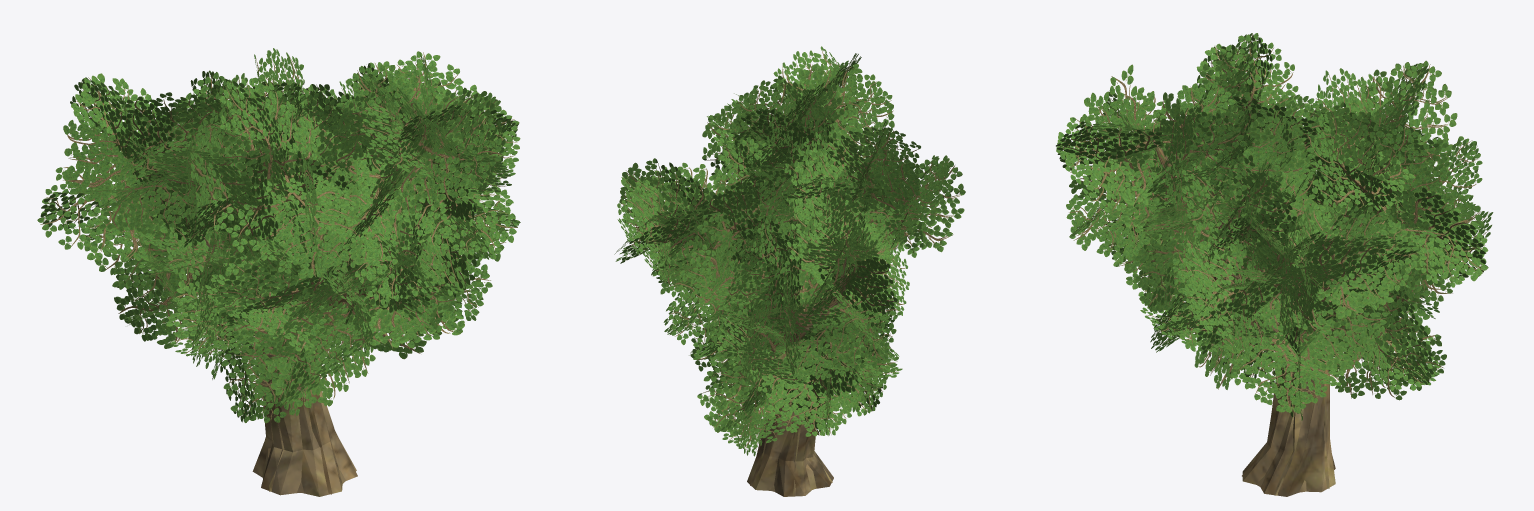
The model's file is arbre.obj.
The picture shows the model from 3 angles, left to right: view 1: azimuth 30°, elevation 25°; view 2: azimuth 150°, elevation 25°; view 3: azimuth 270°, elevation 25°; orthographic projection. The views are drawn at different scales.
Visible parts, largest first — view 1: Plane_Plane.003, Plane.044_Plane; view 2: Plane.044_Plane, Plane_Plane.003; view 3: Plane.044_Plane, Plane_Plane.003.
Part boxes in pixels (x1,y1,x2,y2): Plane_Plane.003: (37,50,520,494); Plane.044_Plane: (38,48,520,496); Plane.044_Plane: (614,50,964,496); Plane_Plane.003: (615,46,965,496); Plane.044_Plane: (1056,34,1488,496); Plane_Plane.003: (1056,33,1493,495).
Bounding box in the file's own units: 8.06 × 7.84 × 8.05.
